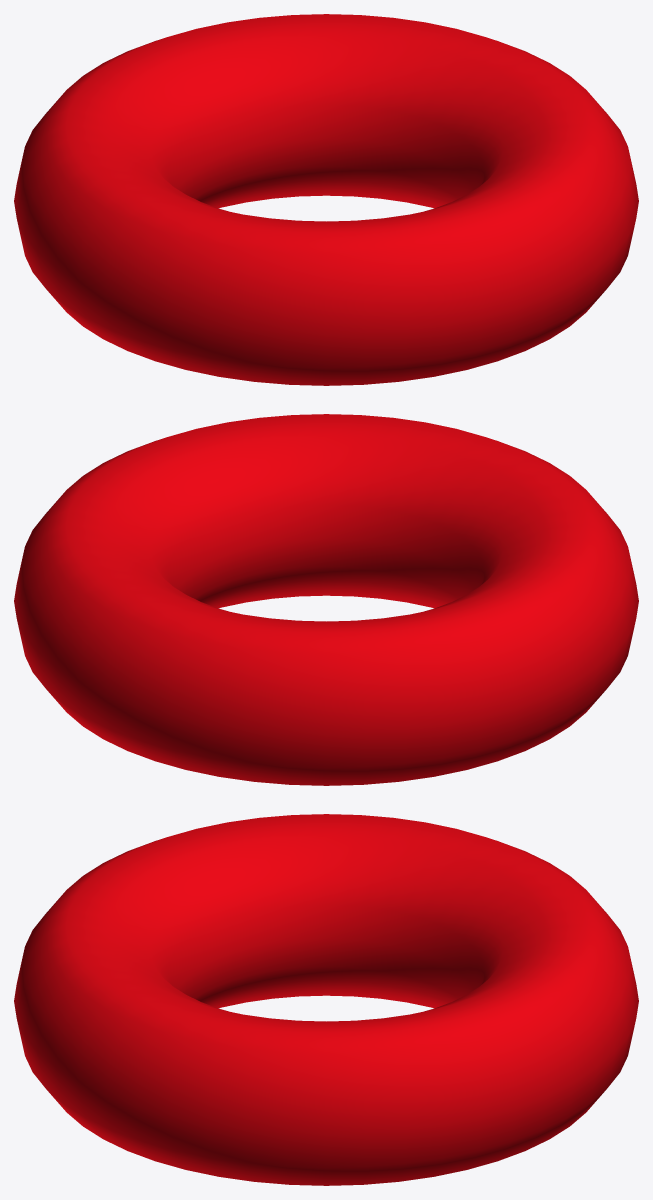
Rendered from boia2.fbx.
3 views of the same model, one above another, from view 1: azimuth 30°, elevation 25°; view 2: azimuth 150°, elevation 25°; view 3: azimuth 270°, elevation 25° (orthographic).
Visible parts, largest first — view 1: Torus; view 2: Torus; view 3: Torus.
Boxes of the visible parts, bbox=[...] form: Torus: bbox=[14, 14, 638, 385]; Torus: bbox=[14, 414, 638, 785]; Torus: bbox=[14, 814, 638, 1185].
Bounding box in the file's own units: 126 × 35.79 × 126.
